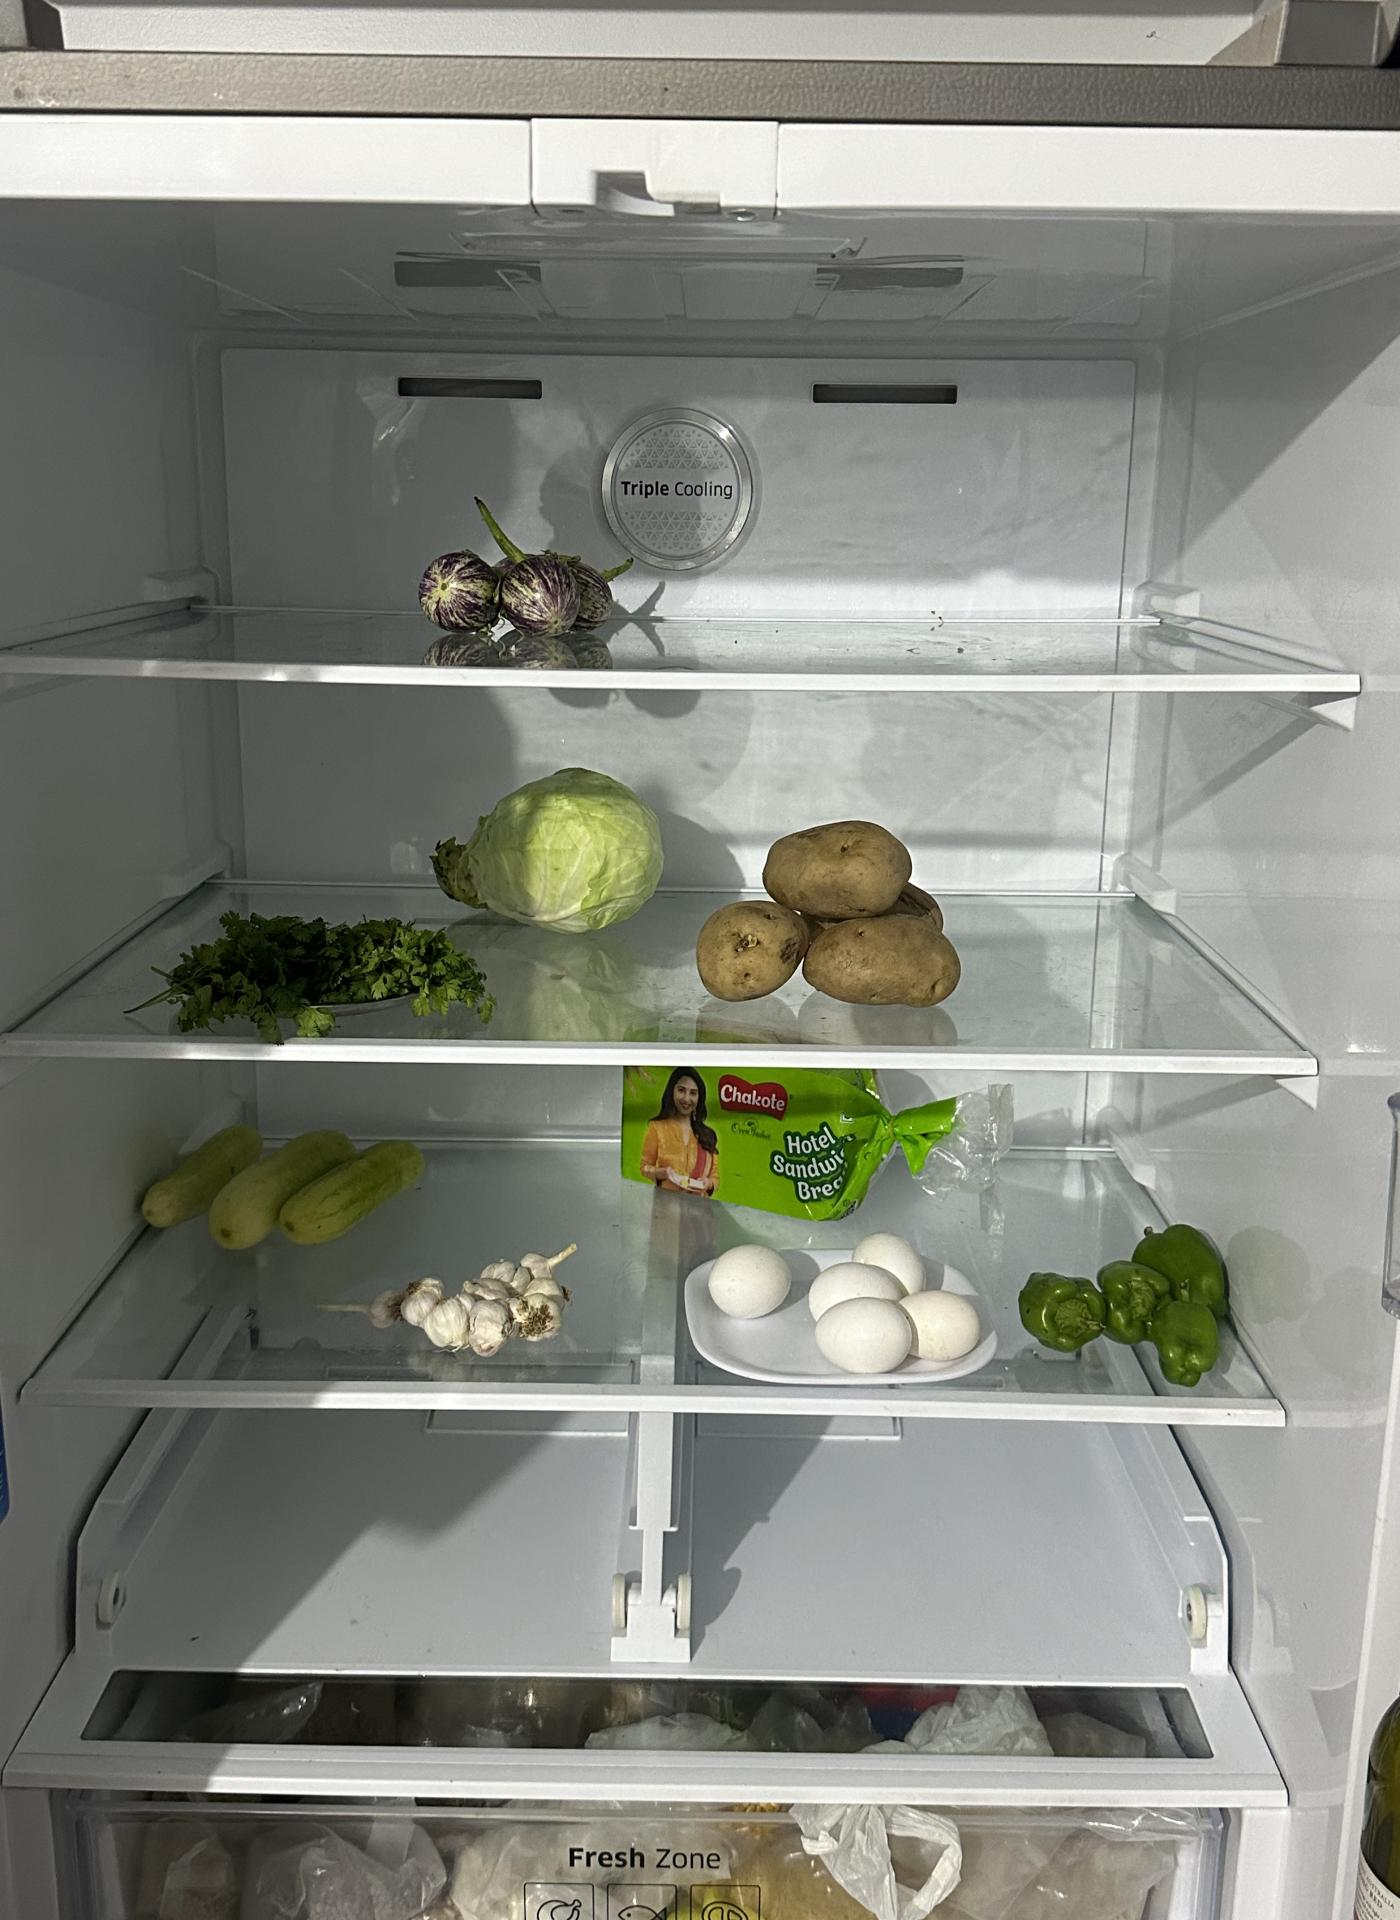bread: (625, 1054, 895, 1213)
brinjal: (423, 549, 629, 653)
cabbage: (437, 771, 668, 935)
capsicum: (1020, 1225, 1233, 1385)
coriander: (170, 902, 491, 1024)
cucumber: (130, 1127, 435, 1252)
egg: (710, 1237, 988, 1377)
garlic: (371, 1249, 574, 1360)
potato: (693, 814, 959, 1002)
